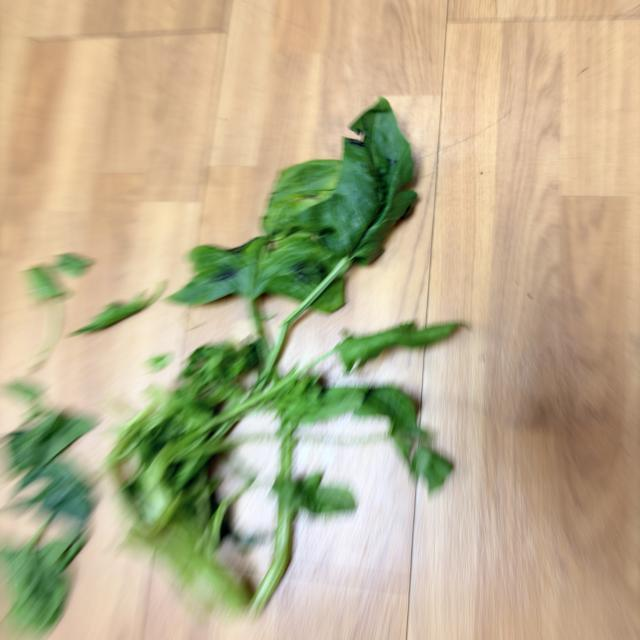rotten spinach: (6, 81, 463, 640)
